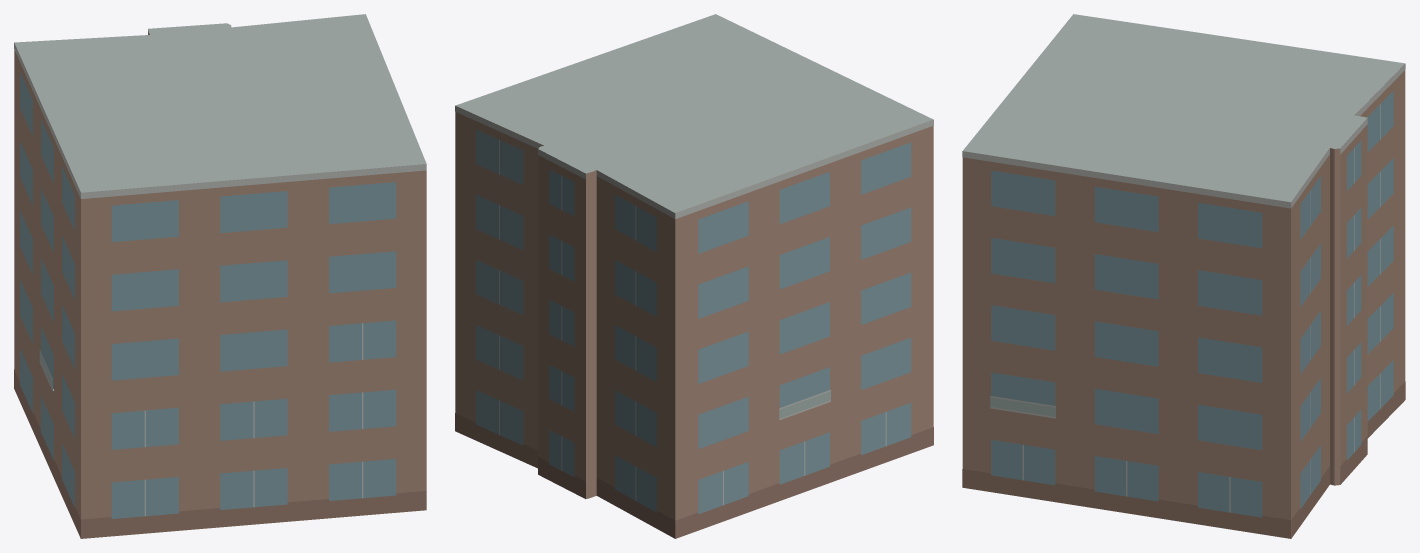
The model's file is survey-upis-33022646.glb.
3 renders of one model, left to right at view 1: azimuth 30°, elevation 25°; view 2: azimuth 150°, elevation 25°; view 3: azimuth 270°, elevation 25°, orthographic. The views are drawn at different scales.
Visible parts, largest first — view 1: survey-upis-33022646.tmp; view 2: survey-upis-33022646.tmp; view 3: survey-upis-33022646.tmp.
Part boxes in pixels (box(x1,y1,x2,y2)): survey-upis-33022646.tmp: box(14, 14, 426, 538); survey-upis-33022646.tmp: box(455, 14, 933, 538); survey-upis-33022646.tmp: box(962, 14, 1405, 538).
Size of the model in its own units: 15.91 by 13.25 by 15.82.
